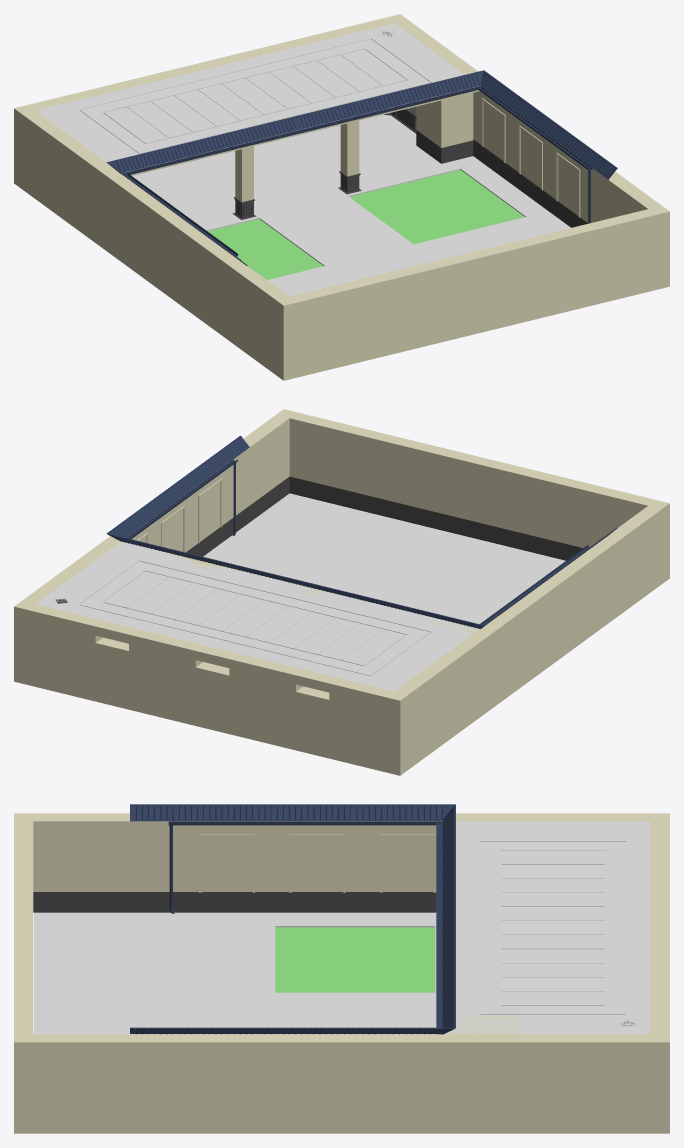
Rendered from classic_yard.fbx.
3 views of the same model, one above another, from view 1: azimuth 30°, elevation 25°; view 2: azimuth 150°, elevation 25°; view 3: azimuth 270°, elevation 25° (orthographic). The views are drawn at different scales.
Visible parts, largest first — view 1: Cube, Cube.009, Cube.008, Plane.003, Cube.012, Cube.010, Plane, Cube.016, Cube.011; view 2: Cube, Cube.008, Cube.009, Plane.003, Plane, Cube.011, Cube.016; view 3: Cube, Cube.009, Cube.008, Plane.003, Plane, Cube.017, Cube.012.
Part boxes in pixels (left/top/right/bottom): Cube: left=14, top=14, right=669, bottom=380; Cube.009: left=132, top=114, right=570, bottom=296; Cube.008: left=36, top=23, right=477, bottom=171; Plane.003: left=106, top=70, right=617, bottom=265; Cube.012: left=416, top=63, right=473, bottom=163; Cube.010: left=232, top=120, right=361, bottom=219; Plane: left=123, top=86, right=592, bottom=256; Cube.016: left=481, top=98, right=580, bottom=217; Cube.011: left=125, top=87, right=479, bottom=175; Cube: left=14, top=409, right=669, bottom=775; Cube.008: left=36, top=542, right=479, bottom=691; Cube.009: left=203, top=493, right=565, bottom=623; Plane.003: left=106, top=435, right=617, bottom=628; Plane: left=126, top=459, right=589, bottom=624; Cube.011: left=121, top=541, right=478, bottom=633; Cube.016: left=137, top=478, right=222, bottom=552; Cube: left=14, top=813, right=669, bottom=1133; Cube.009: left=34, top=912, right=436, bottom=1033; Cube.008: left=442, top=821, right=650, bottom=1033; Plane.003: left=130, top=804, right=455, bottom=1034; Plane: left=168, top=821, right=442, bottom=1027; Cube.017: left=199, top=834, right=435, bottom=892; Cube.012: left=459, top=1015, right=519, bottom=1033.
Bounding box in the file's own units: 20.31 × 24.57 × 4.3.
